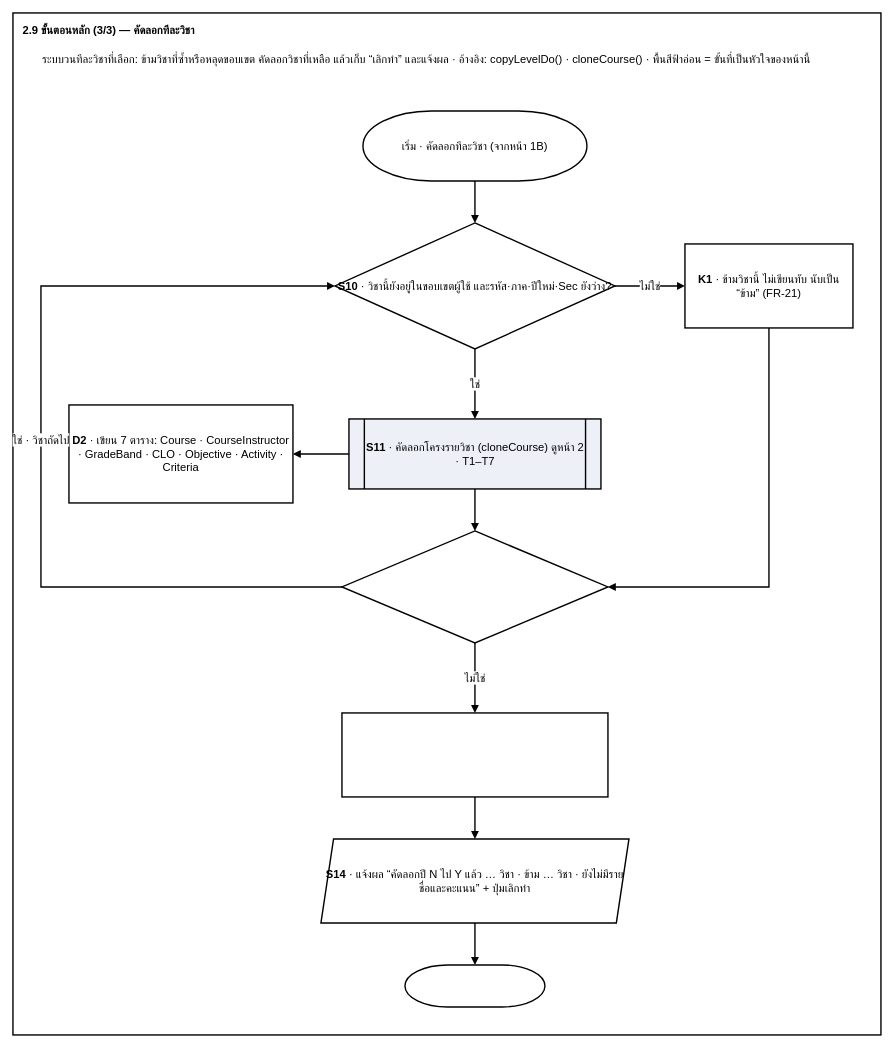
Some shapes in this 893 by 1047 pixel diagram are drawn without their labels. The centre of each missing label's shape, as x and y in pixels:
"S12 · ยังมีวิชาที่เลือกเหลือ?" goes at point (474, 586).
"S13 · เก็บ “เลิกทำ” = ลบวิชาที่สร้างทั้งชุด · ปิดหน้าต่าง · แสดงวิชารายภาค" goes at point (474, 754).
"S15 · จบ" goes at point (474, 985).
